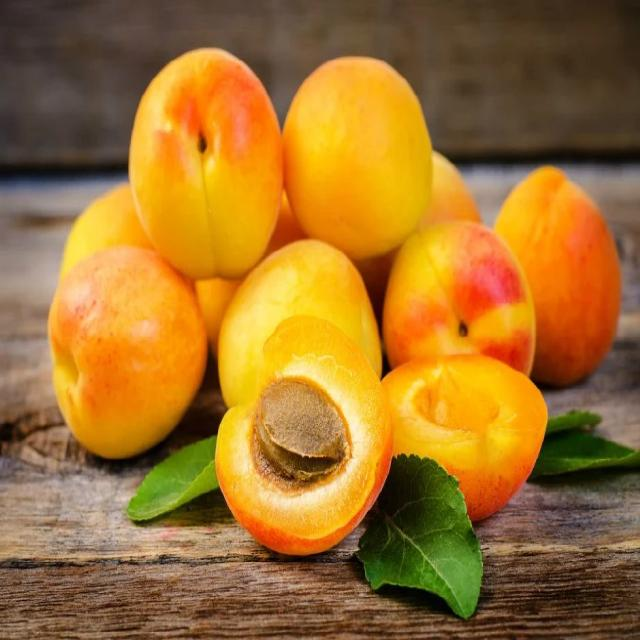Cekirdek: (255, 378, 349, 481)
Kayisi: (48, 246, 207, 457)
Yaprak: (357, 455, 482, 618)
